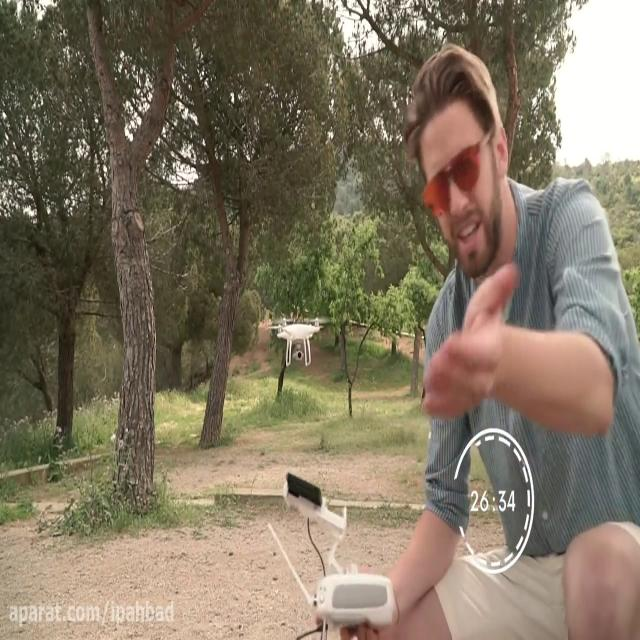drone: (267, 311, 328, 368)
